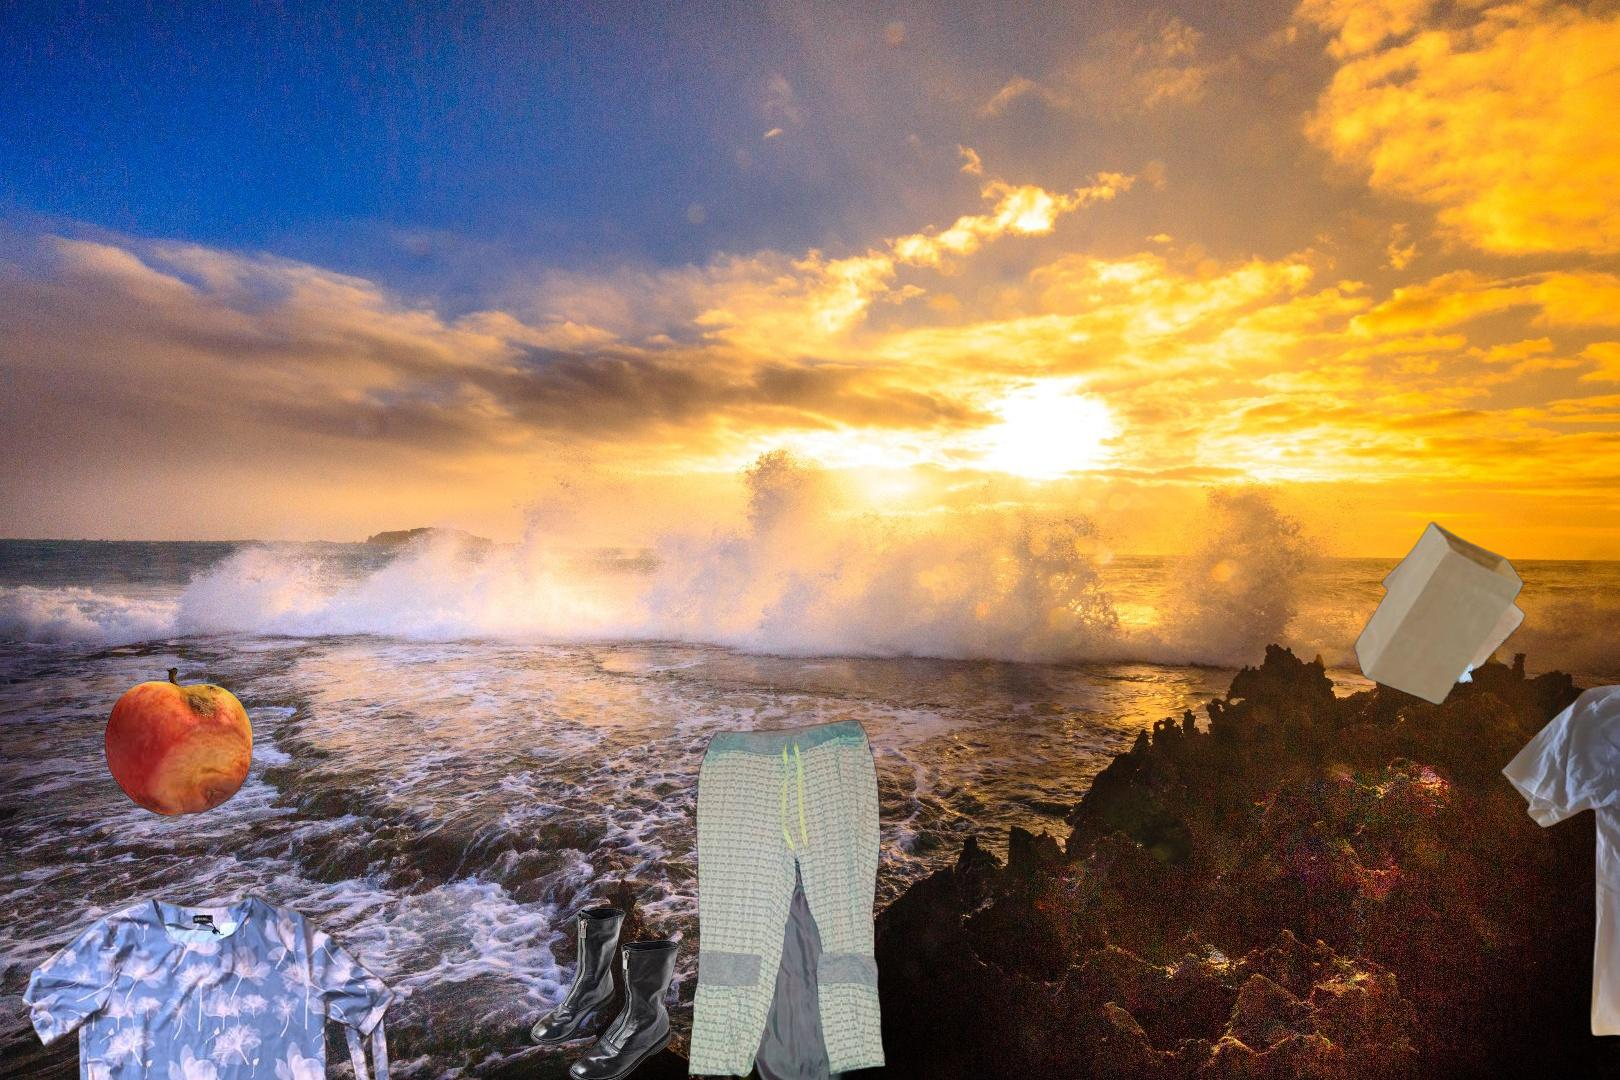biological: (102, 664, 256, 818)
clothes: (683, 716, 890, 1080), (12, 890, 403, 1080), (1497, 661, 1620, 1055)
paper-bag: (1351, 520, 1540, 722)
shoes: (528, 902, 682, 1080)
